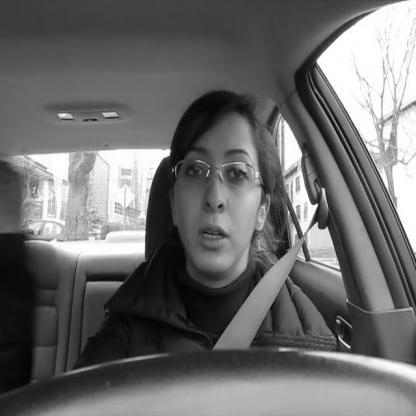seatbelt: (169, 86, 332, 351)
